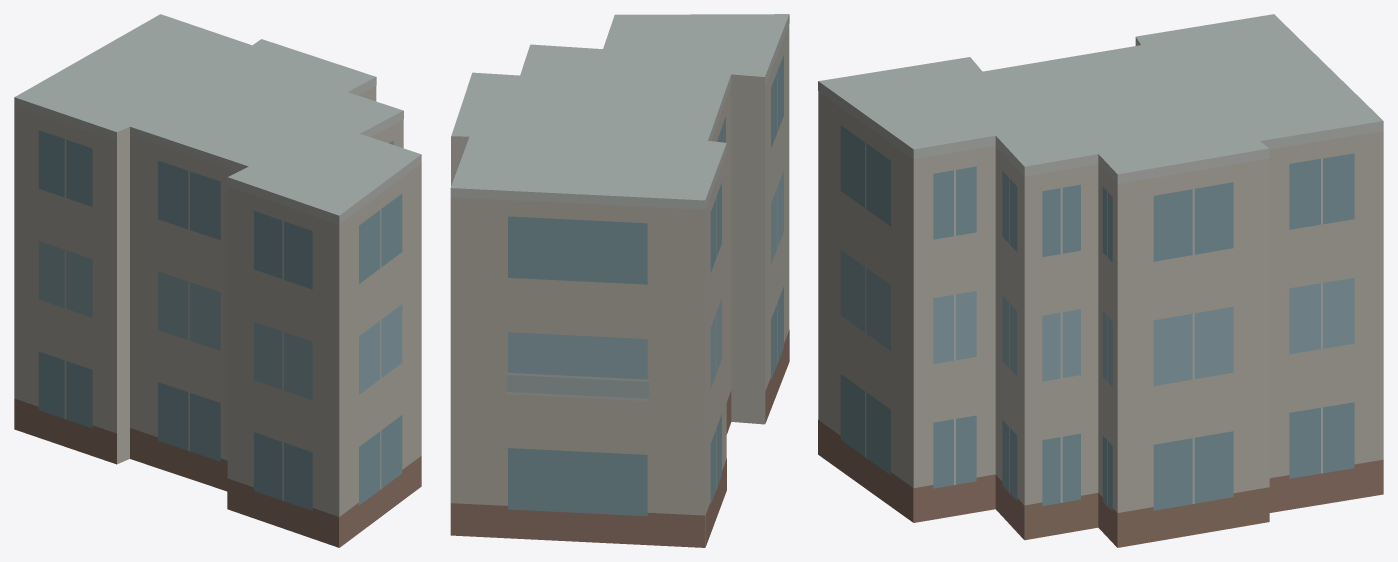
File: survey-upis-32696422.glb
3 views of the same model, side by side, from view 1: azimuth 30°, elevation 25°; view 2: azimuth 150°, elevation 25°; view 3: azimuth 270°, elevation 25° (orthographic). The views are drawn at different scales.
Visible parts, largest first — view 1: survey-upis-32696422.tmp; view 2: survey-upis-32696422.tmp; view 3: survey-upis-32696422.tmp.
Boxes of the visible parts, x1,y1,x2,y2 form: survey-upis-32696422.tmp: (14, 14, 421, 547); survey-upis-32696422.tmp: (450, 14, 789, 547); survey-upis-32696422.tmp: (818, 14, 1383, 547).
Bounding box in the file's own units: 8.44 × 9.15 × 12.56.
